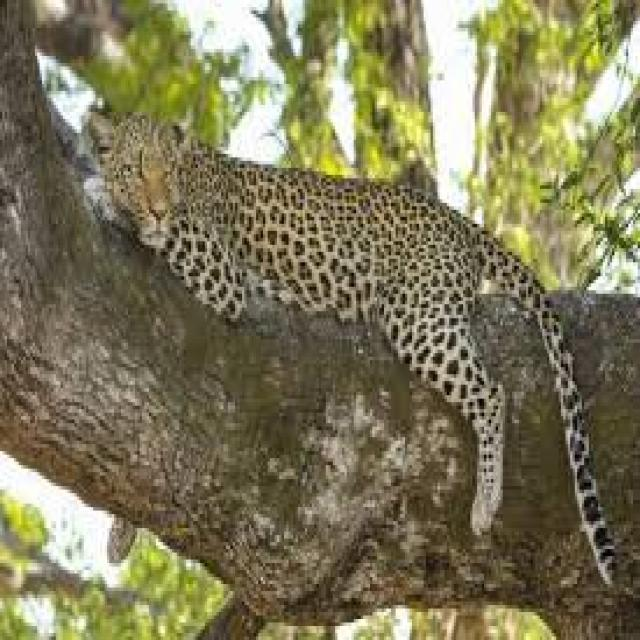Leopard: (86, 104, 618, 587)
